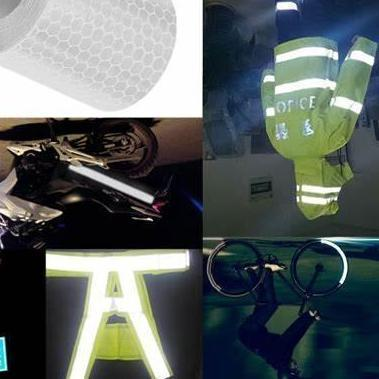Vest: (256, 34, 353, 155)
